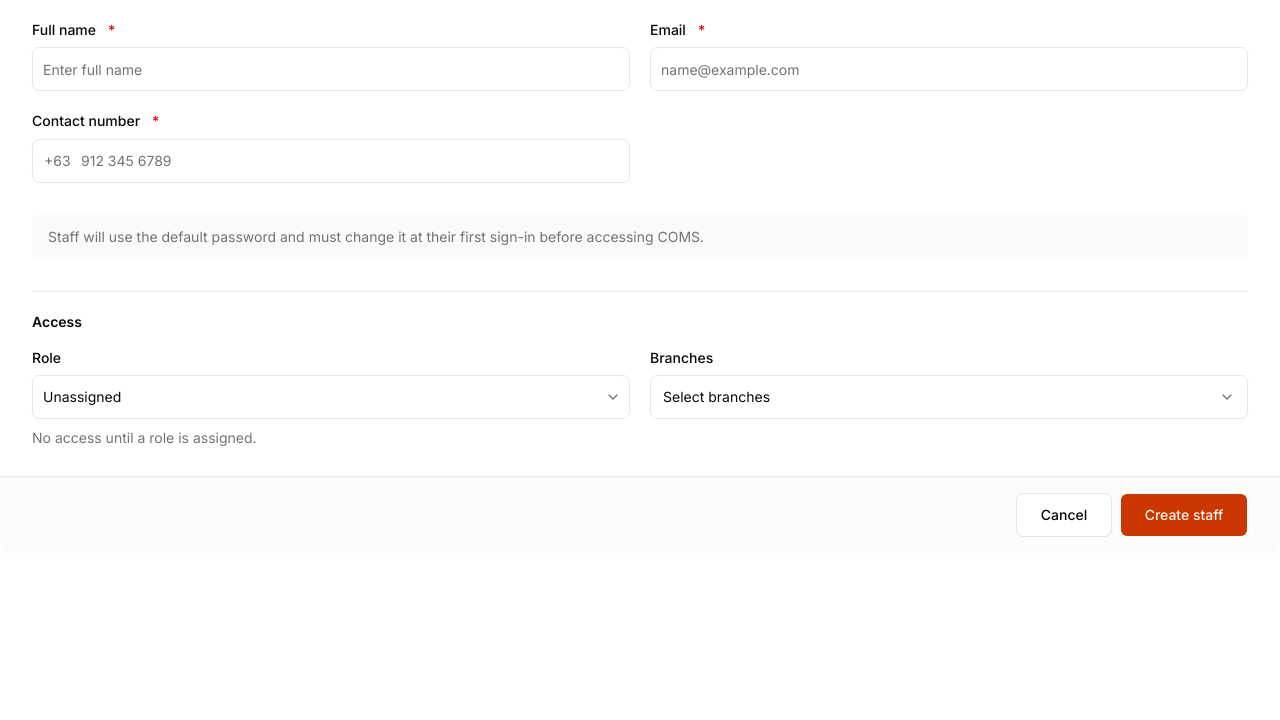
staff creation › keeps entered values and reports a rejected create request
Type "alex@example.com" into the field labelled "Email".
click(949, 69); type("alex@example.com")  # box [650,47,1248,91]
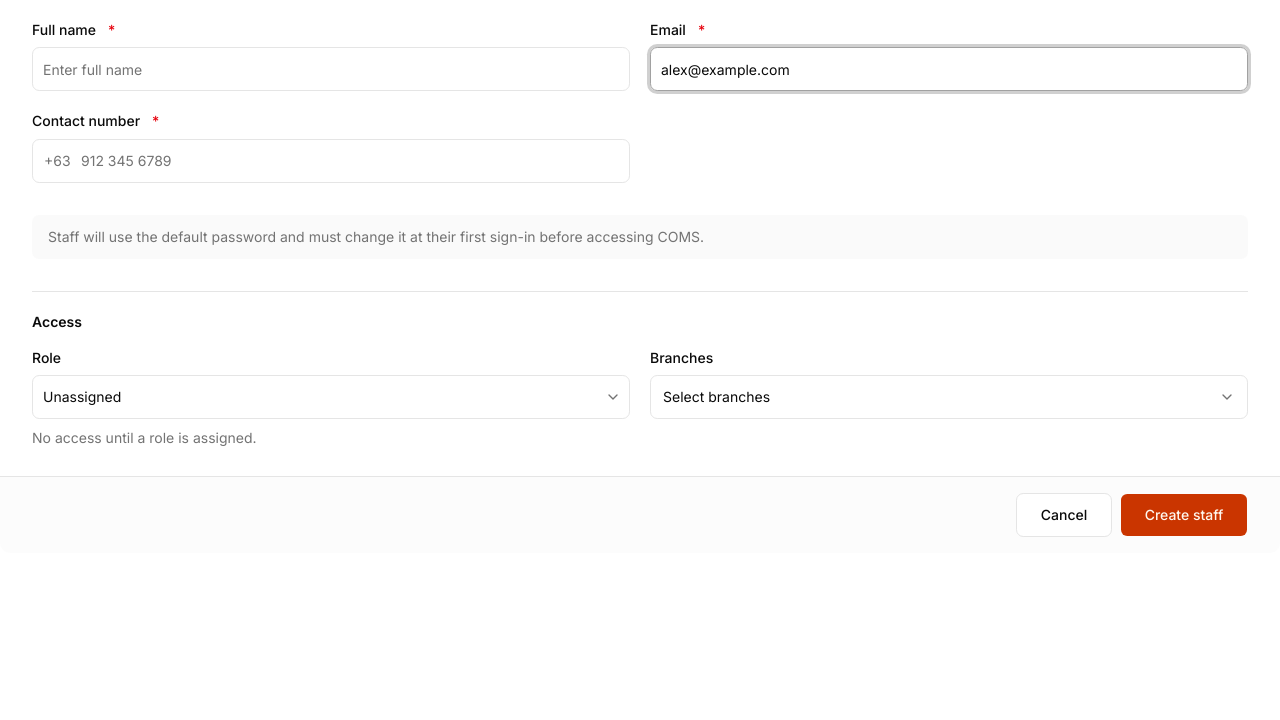
Type "Alex Staff" into the field labelled "Full name".
click(331, 69); type("Alex Staff")  # box [32,47,630,91]
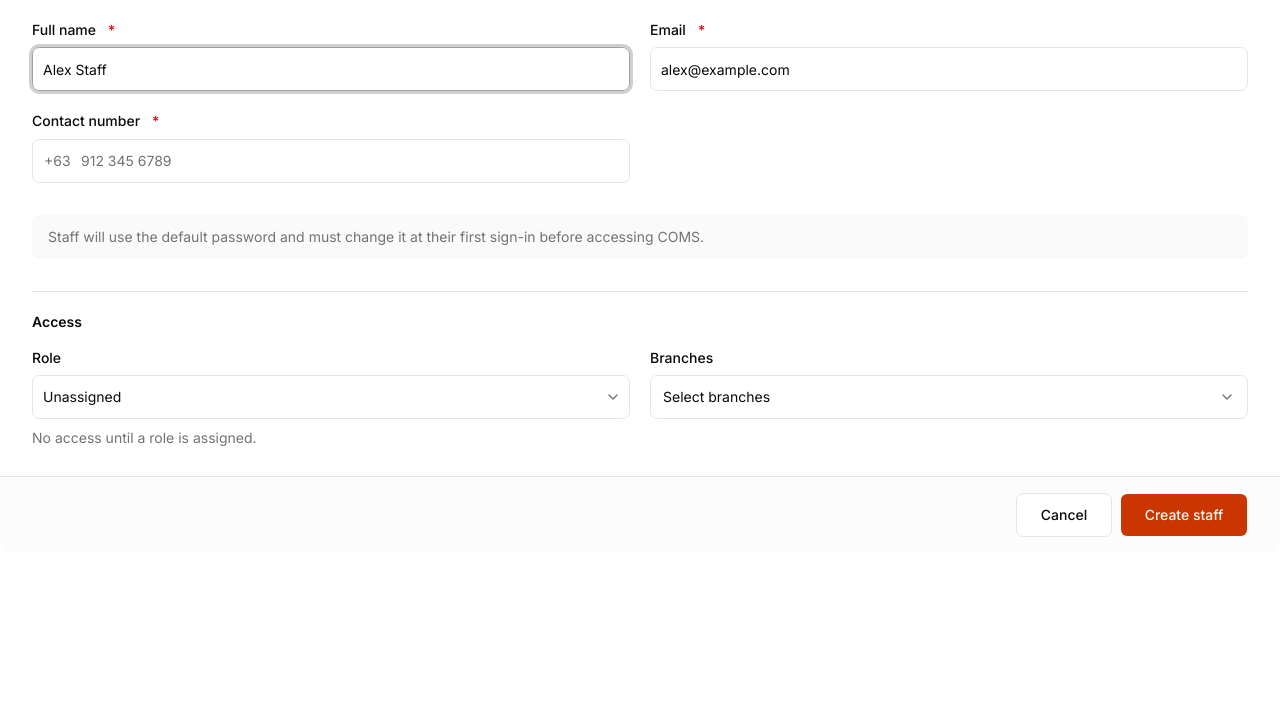
Type "09170000000" into the field labelled "Contact number".
click(331, 160); type("09170000000")  # box [32,138,630,182]
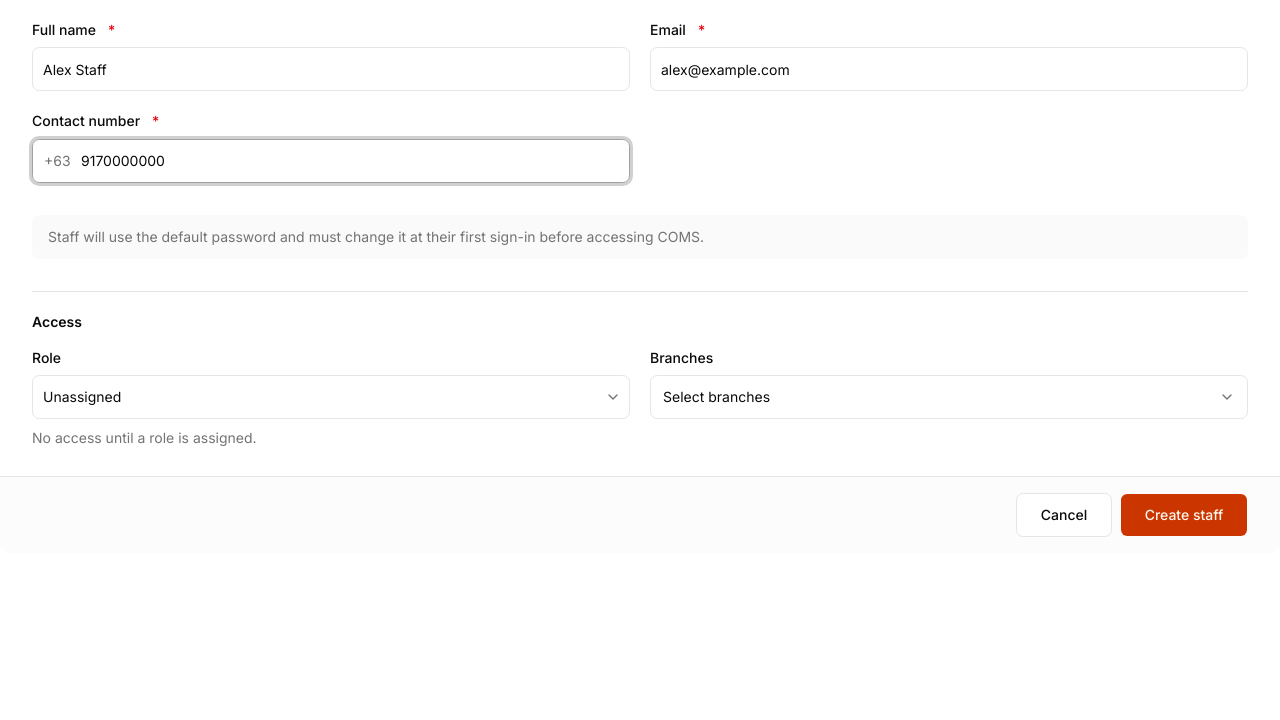
Click the button "Create staff".
click(1184, 515)  # box [1120,493,1248,537]
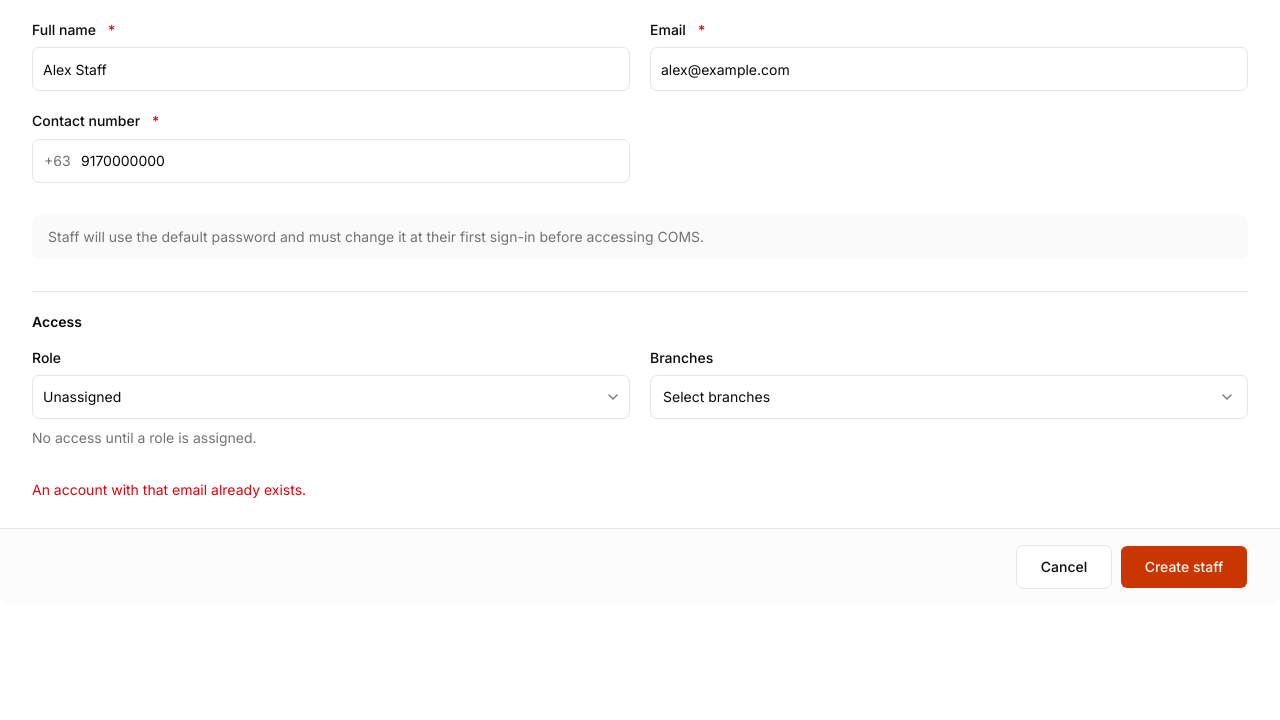
Check: the message reads "An account with that email already exists.", box [32,481,306,498]
